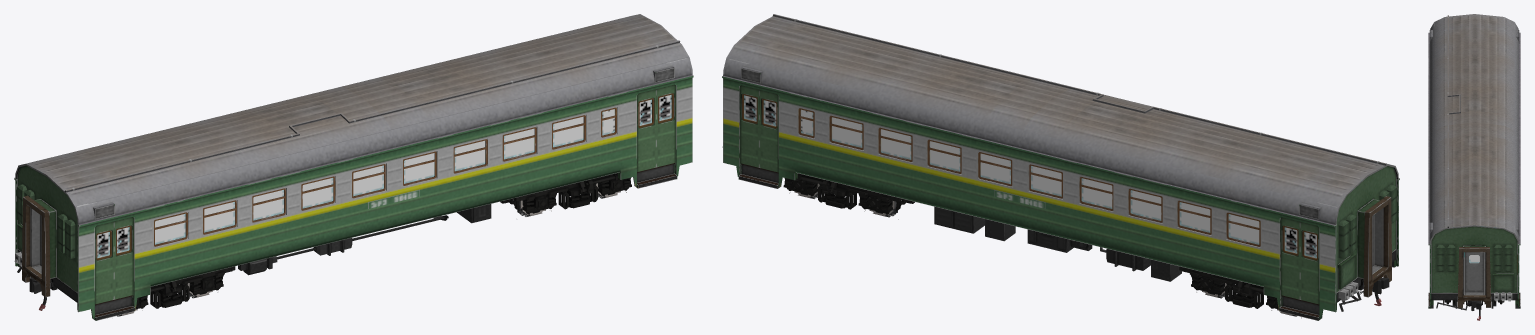
The model's file is mvp_ir_er2t.obj.
The picture shows the model from 3 angles, left to right: view 1: azimuth 30°, elevation 25°; view 2: azimuth 150°, elevation 25°; view 3: azimuth 270°, elevation 25°; orthographic projection. The views are drawn at different scales.
Parts seen in each view (by area): view 1: FRAME_er2t, BOGEY_REAR_er2t, BOGEY_FRONT_er2t, DOOR_2_TL_0.531_X_CG_DrL_EXTERNAL_er2t, DOOR_4_TL_0.531_X_CG_DrL_EXTERNAL_er2t, DOOR_1_TL_-0.531_X_CG_DrL_EXTERNAL_er2t, DOOR_3_TL_-0.531_X_CG_DrL_EXTERNAL_er2t; view 2: FRAME_er2t, BOGEY_REAR_er2t, BOGEY_FRONT_er2t, DOOR_8_TL_0.531_X_CG_DrR_EXTERNAL_er2t, DOOR_6_TL_0.531_X_CG_DrR_EXTERNAL_er2t, DOOR_7_TL_-0.531_X_CG_DrR_EXTERNAL_er2t, DOOR_5_TL_-0.531_X_CG_DrR_EXTERNAL_er2t; view 3: FRAME_er2t, DOOR_14_TOGGLE_CONNECTING_er2t, BOGEY_REAR_er2t.
Part boxes in pixels (bbox=[...]): FRAME_er2t: bbox=[14, 14, 693, 320]; BOGEY_REAR_er2t: bbox=[500, 173, 631, 214]; BOGEY_FRONT_er2t: bbox=[135, 266, 235, 309]; DOOR_2_TL_0.531_X_CG_DrL_EXTERNAL_er2t: bbox=[114, 217, 133, 299]; DOOR_4_TL_0.531_X_CG_DrL_EXTERNAL_er2t: bbox=[656, 84, 675, 167]; DOOR_1_TL_-0.531_X_CG_DrL_EXTERNAL_er2t: bbox=[95, 221, 114, 304]; DOOR_3_TL_-0.531_X_CG_DrL_EXTERNAL_er2t: bbox=[637, 89, 656, 171]; FRAME_er2t: bbox=[722, 14, 1399, 320]; BOGEY_REAR_er2t: bbox=[783, 173, 914, 214]; BOGEY_FRONT_er2t: bbox=[1179, 266, 1279, 309]; DOOR_8_TL_0.531_X_CG_DrR_EXTERNAL_er2t: bbox=[740, 85, 759, 167]; DOOR_6_TL_0.531_X_CG_DrR_EXTERNAL_er2t: bbox=[1280, 217, 1299, 299]; DOOR_7_TL_-0.531_X_CG_DrR_EXTERNAL_er2t: bbox=[759, 89, 778, 172]; DOOR_5_TL_-0.531_X_CG_DrR_EXTERNAL_er2t: bbox=[1300, 221, 1319, 304]; FRAME_er2t: bbox=[1428, 14, 1520, 320]; DOOR_14_TOGGLE_CONNECTING_er2t: bbox=[1464, 252, 1484, 292]; BOGEY_REAR_er2t: bbox=[1444, 300, 1504, 305].
Size of the model in its own units: 21.05 by 4.53 by 3.67.
